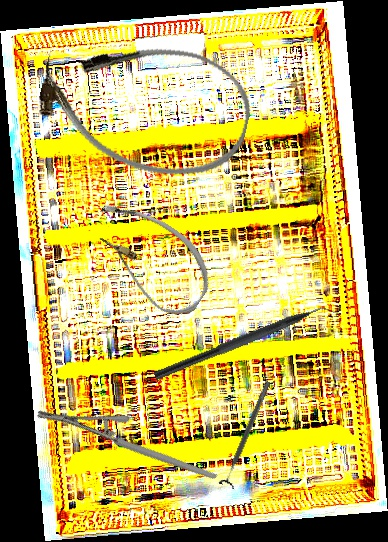Cannula: (28, 20, 261, 192), (73, 189, 226, 326)
Chopper: (153, 296, 341, 393)
Fixation Ring: (217, 378, 278, 490)
Needle Holder: (34, 362, 218, 529)
